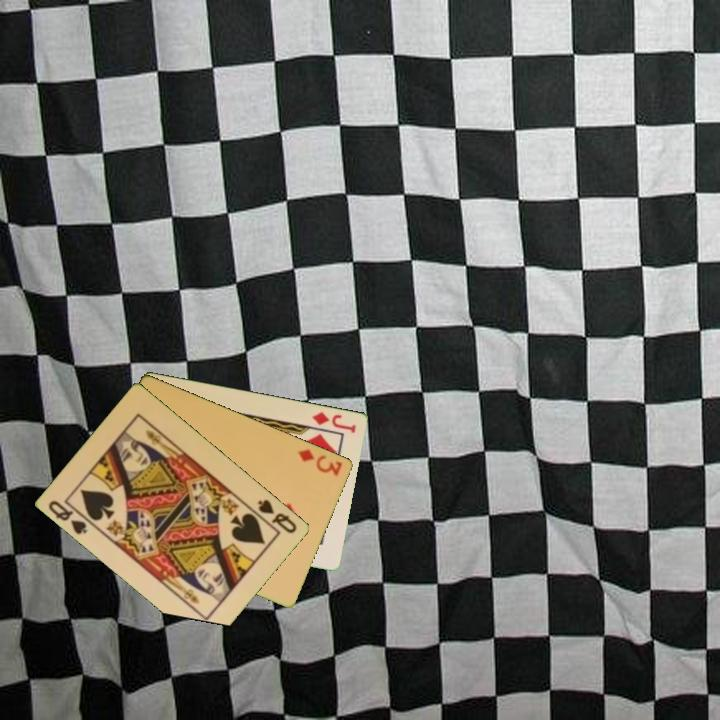3d: (295, 445, 346, 479)
Jd: (309, 408, 359, 436)
Qs: (45, 497, 91, 538), (254, 496, 300, 536)
